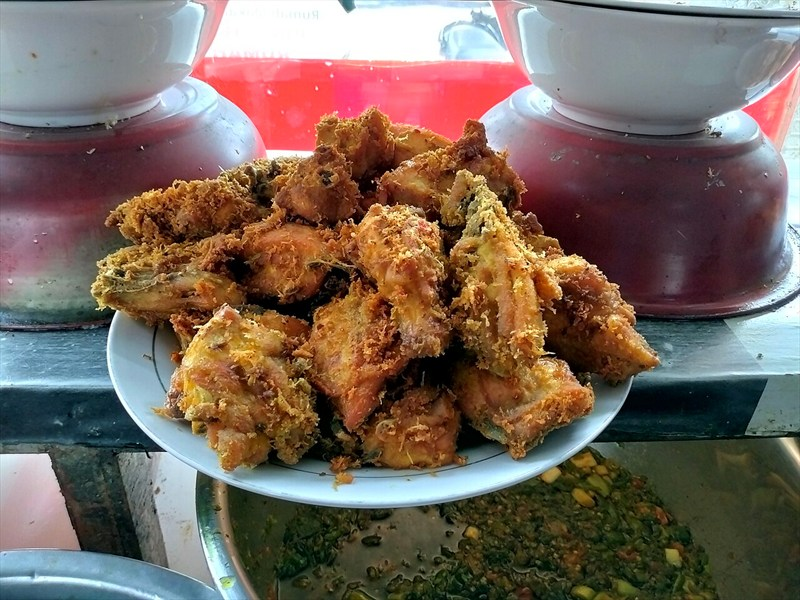Ayam Goreng: (132, 79, 638, 506)
